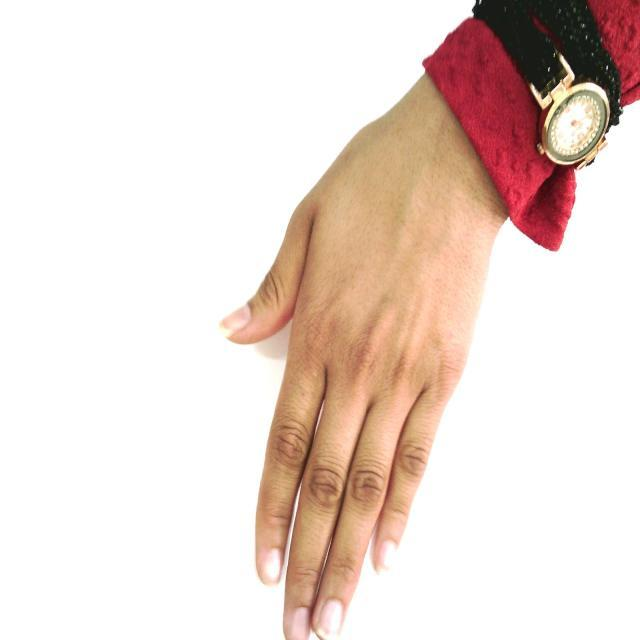Fingernail: (316, 599, 343, 639), (221, 307, 250, 332), (261, 549, 281, 585), (378, 543, 397, 579)
